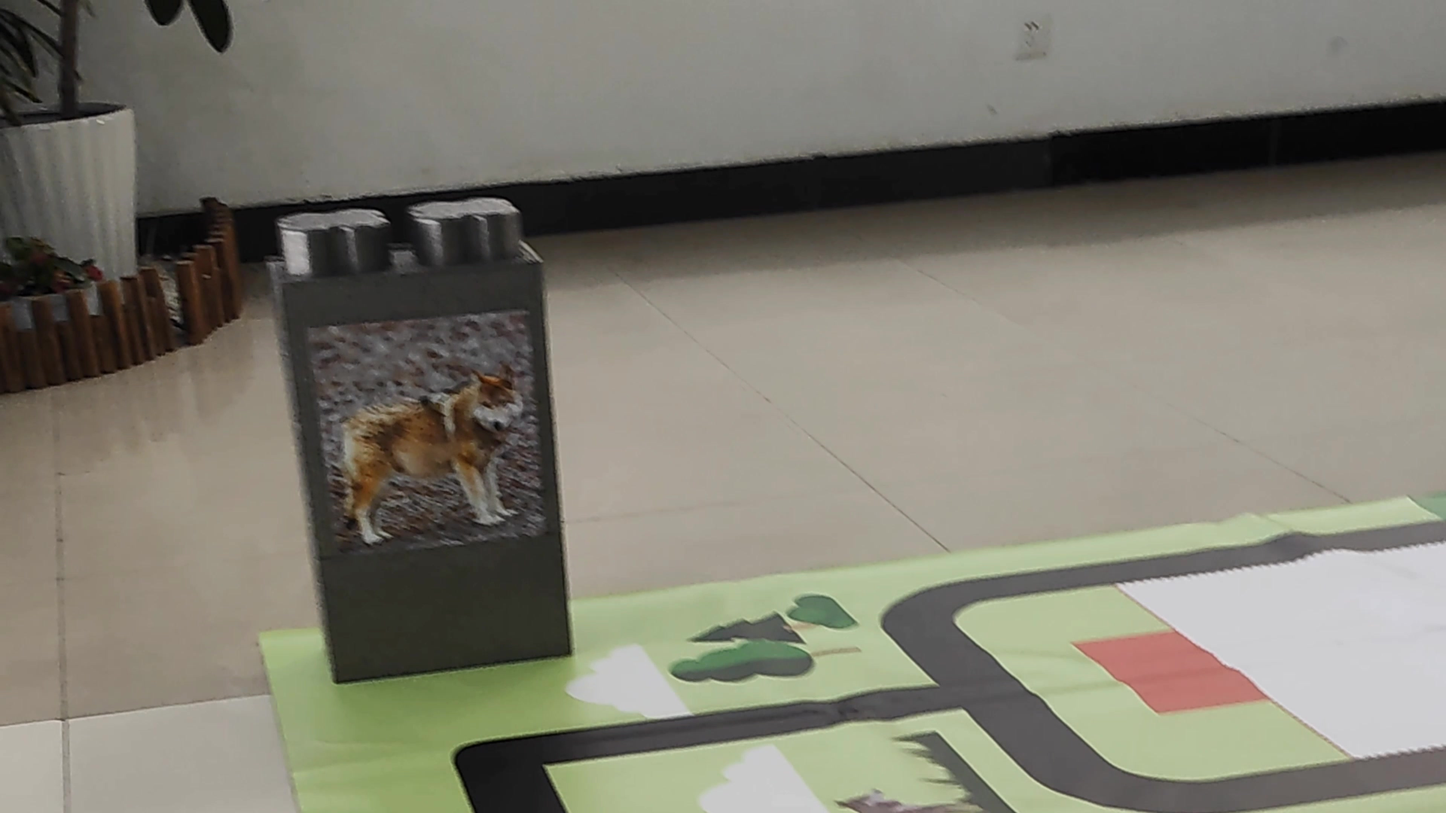wolf: (319, 311, 545, 557)
